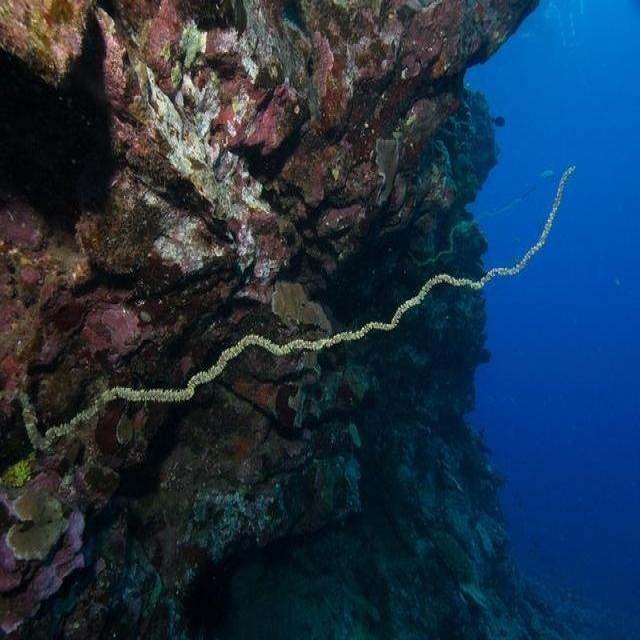reefs: (16, 163, 577, 448)
sea-floor: (0, 1, 613, 635)
